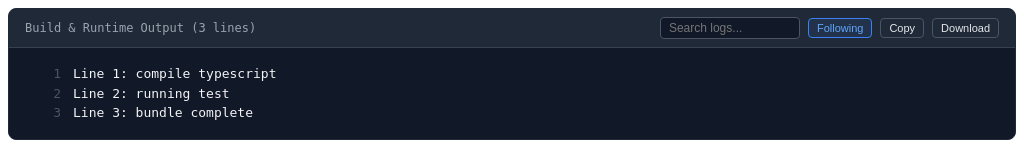
LogViewer features › renders search input and filters lines by query
Expected: the text "Line 1: compile typescript" is shown, [73,66,276,81]
Expected: the text "Line 2: running test" is shown, [73,86,230,100]
Type "bundle" into the search field labelled "Search logs".
click(730, 28); type("bundle")  # box [660,17,800,39]
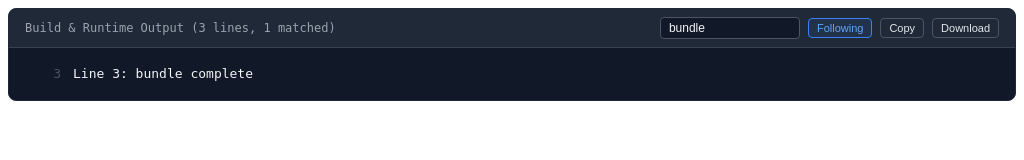
Expected: the text "Line 3: bundle complete" is shown, [73,66,253,81]
Expected: the text "Build & Runtime Output (3 lines, 1 matched)" is shown, [25,21,336,35]
Expected: the text "Line 1: compile typescript" is gone
